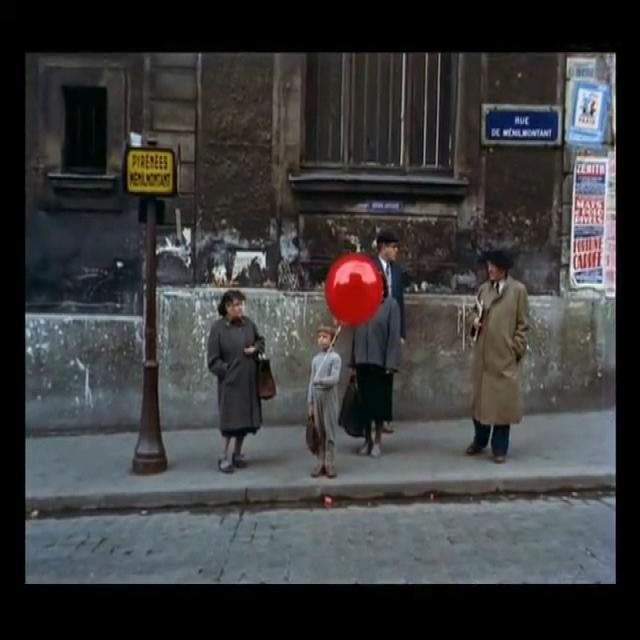balloon: (323, 251, 384, 328)
